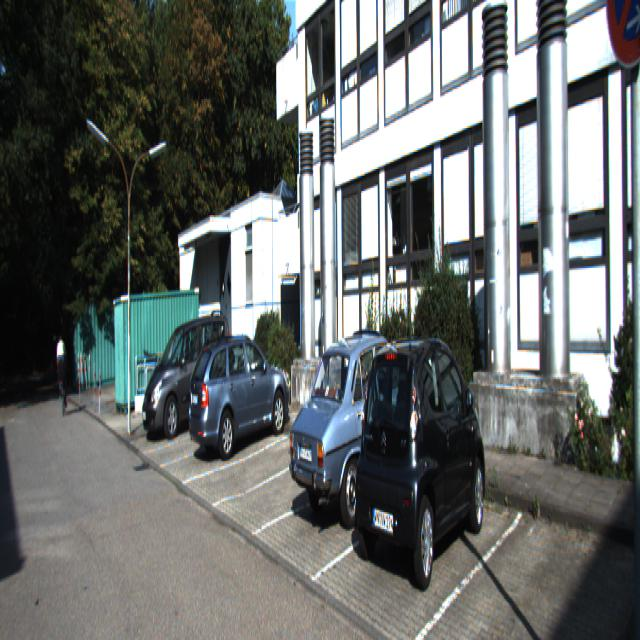Car: (352, 328, 489, 588), (284, 324, 432, 540), (183, 330, 288, 468), (137, 311, 231, 444)
